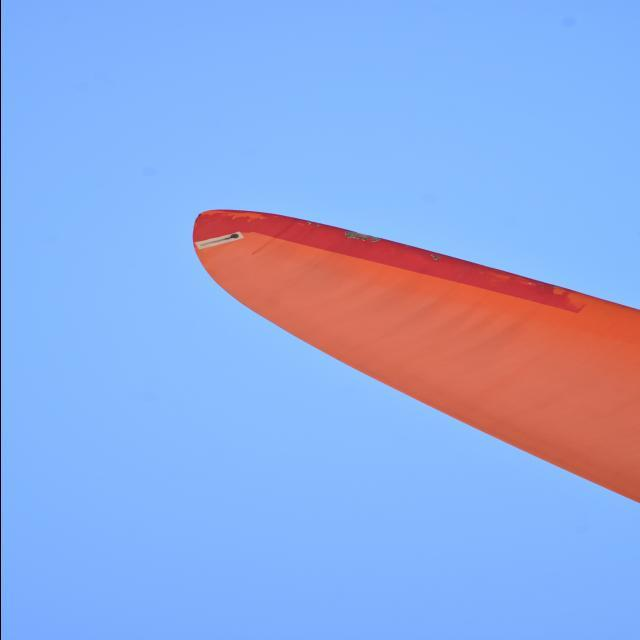Crack: (200, 233, 245, 250)
EROSION: (343, 227, 383, 244)
